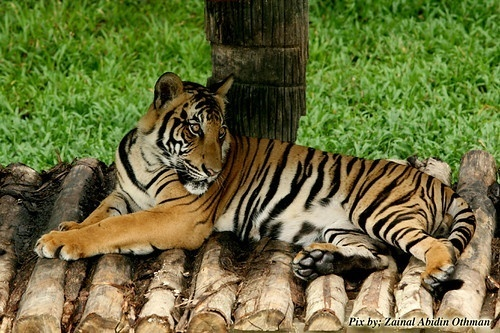tigre: (33, 72, 478, 282)
